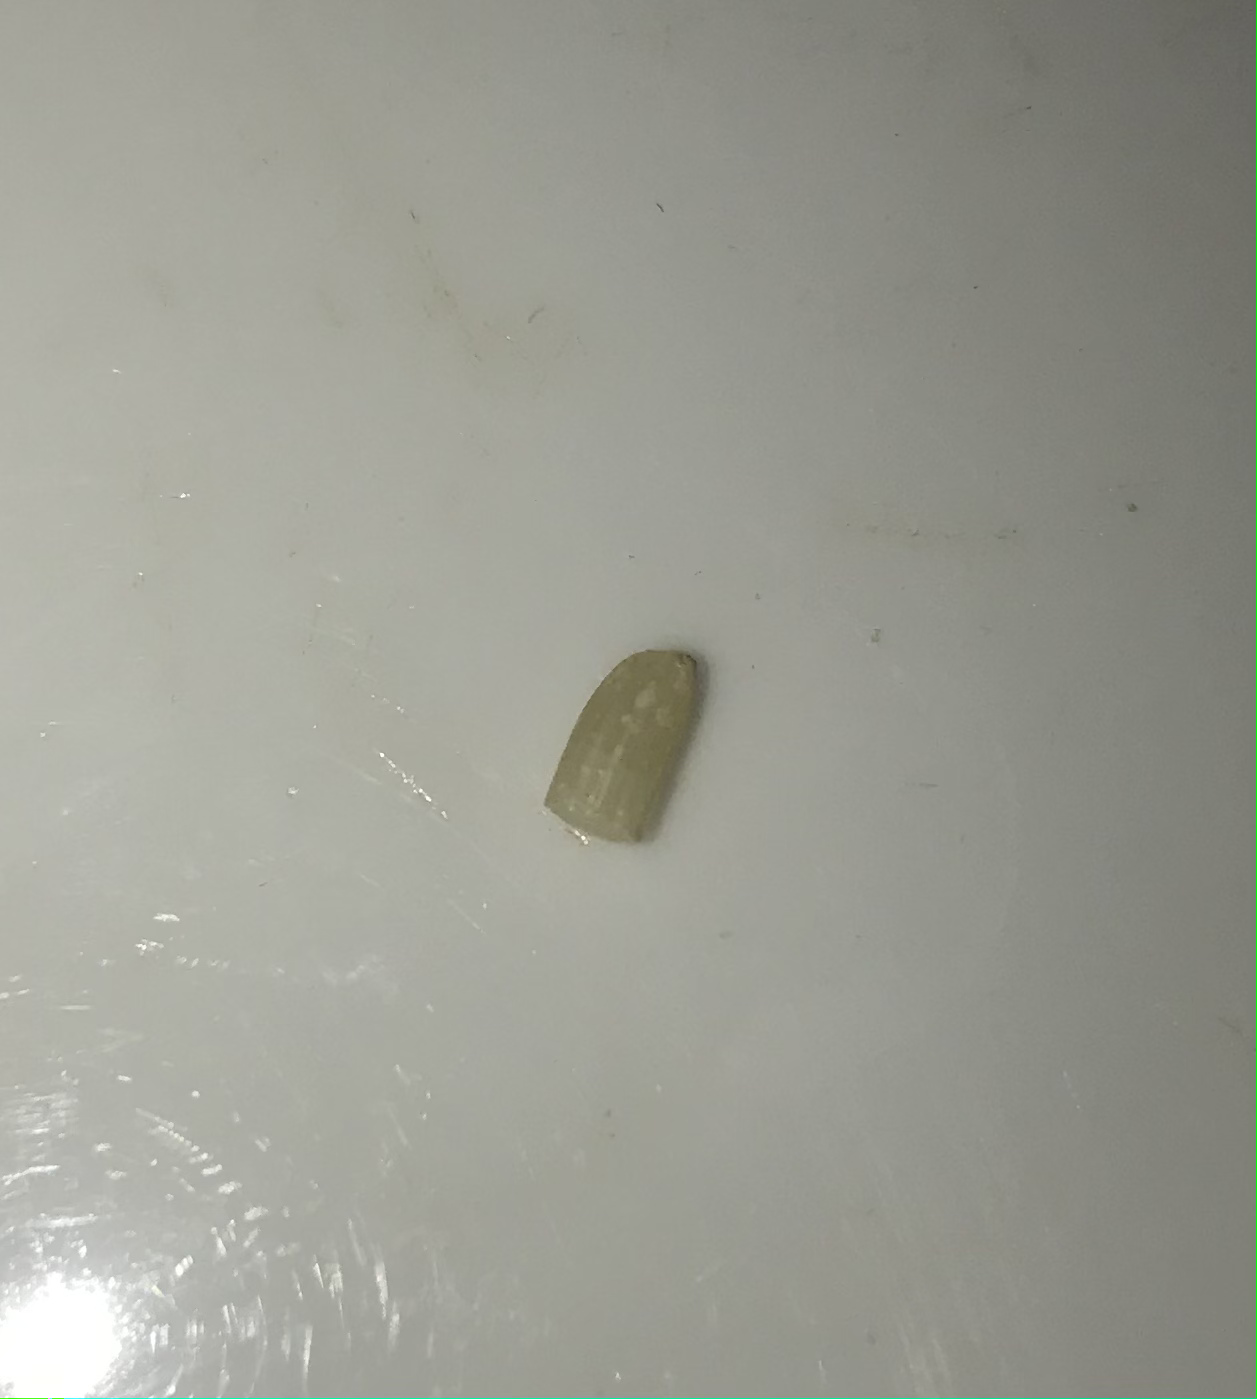Gao Lut Trang: (525, 639, 760, 871)
